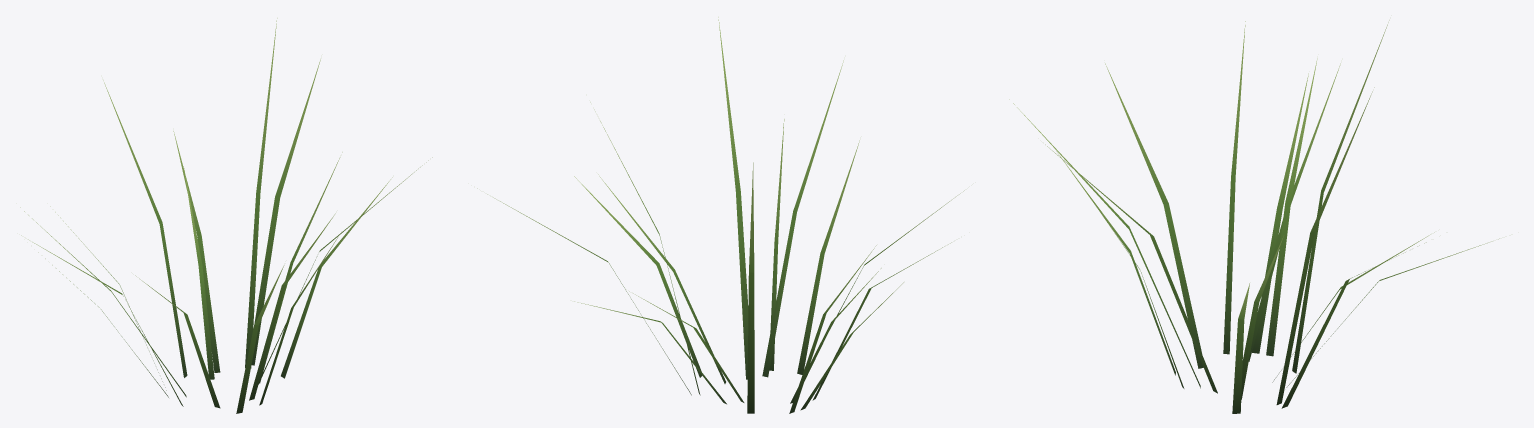
File: grass_meadow_thin_01.glb
3 renders of one model, left to right at view 1: azimuth 30°, elevation 25°; view 2: azimuth 150°, elevation 25°; view 3: azimuth 270°, elevation 25°, orthographic. The views are drawn at different scales.
Visible parts, largest first — view 1: grass_meadow_thin_01_mesh; view 2: grass_meadow_thin_01_mesh; view 3: grass_meadow_thin_01_mesh.
Part boxes in pixels (x1,y1,x2,y2): grass_meadow_thin_01_mesh: (20, 18, 432, 413); grass_meadow_thin_01_mesh: (477, 17, 964, 413); grass_meadow_thin_01_mesh: (1009, 20, 1499, 413).
Bounding box in the file's own units: 0.4204 × 0.3099 × 0.3996.
